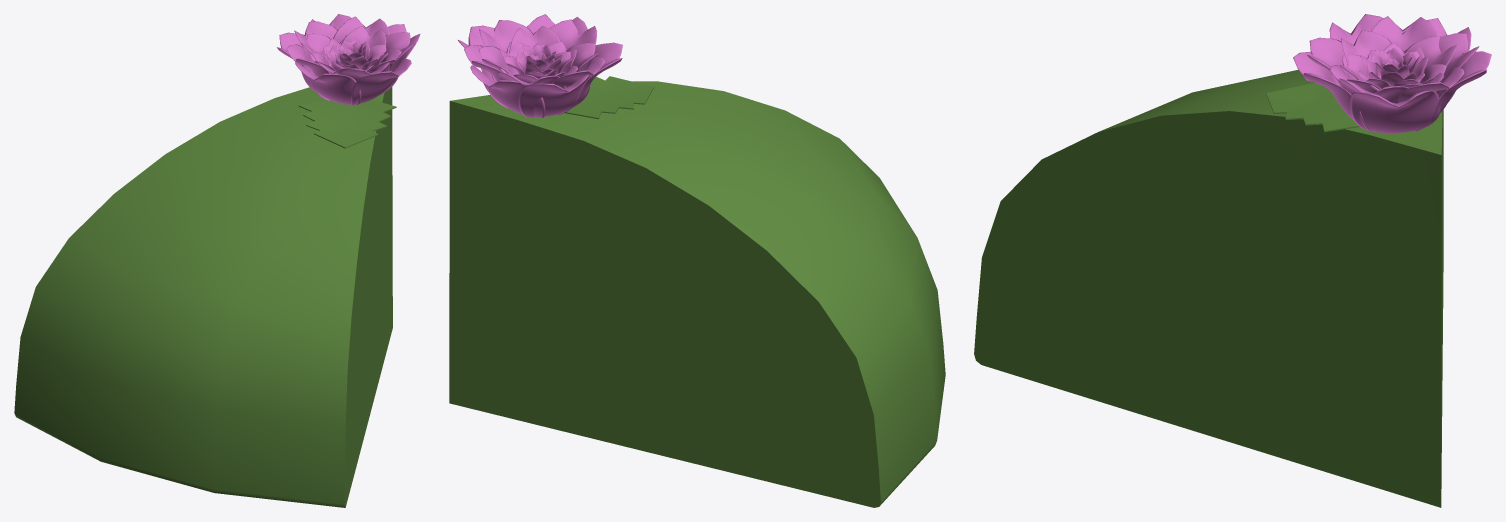
File: princess_torta_slice.fbx
3 renders of one model, left to right at view 1: azimuth 30°, elevation 25°; view 2: azimuth 150°, elevation 25°; view 3: azimuth 270°, elevation 25°, orthographic. The views are drawn at different scales.
Visible parts, largest first — view 1: SM_princess_cake_slice, SM_rose3, SM_cake_leaf2; view 2: SM_princess_cake_slice, SM_rose3, SM_cake_leaf2; view 3: SM_princess_cake_slice, SM_rose3, SM_cake_leaf2.
Boxes of the visible parts, box(x1,y1,x2,y2) form: SM_princess_cake_slice: box(14, 87, 392, 507); SM_rose3: box(277, 14, 420, 105); SM_cake_leaf2: box(298, 99, 396, 148); SM_princess_cake_slice: box(449, 81, 945, 507); SM_rose3: box(458, 14, 622, 117); SM_cake_leaf2: box(565, 76, 653, 119); SM_princess_cake_slice: box(974, 70, 1443, 507); SM_rose3: box(1293, 14, 1491, 132); SM_cake_leaf2: box(1266, 83, 1359, 132).
Bounding box in the file's own units: 15.03 × 11.75 × 13.23.
